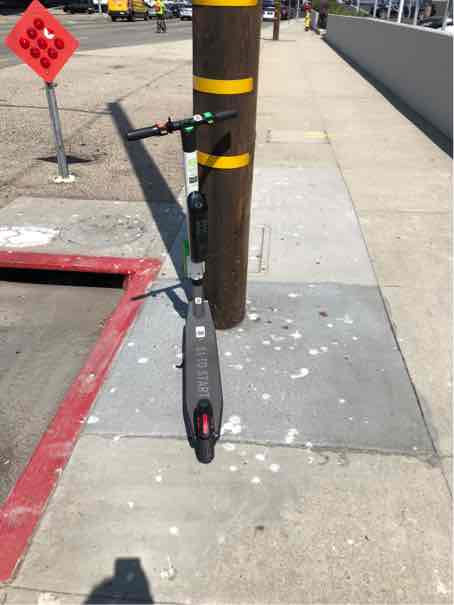scooter: (115, 101, 296, 487)
